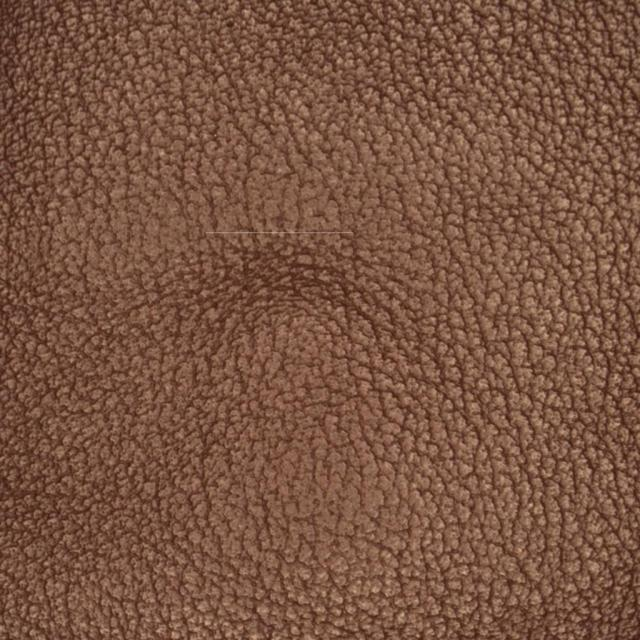Healed Injury: (183, 183, 402, 427)
